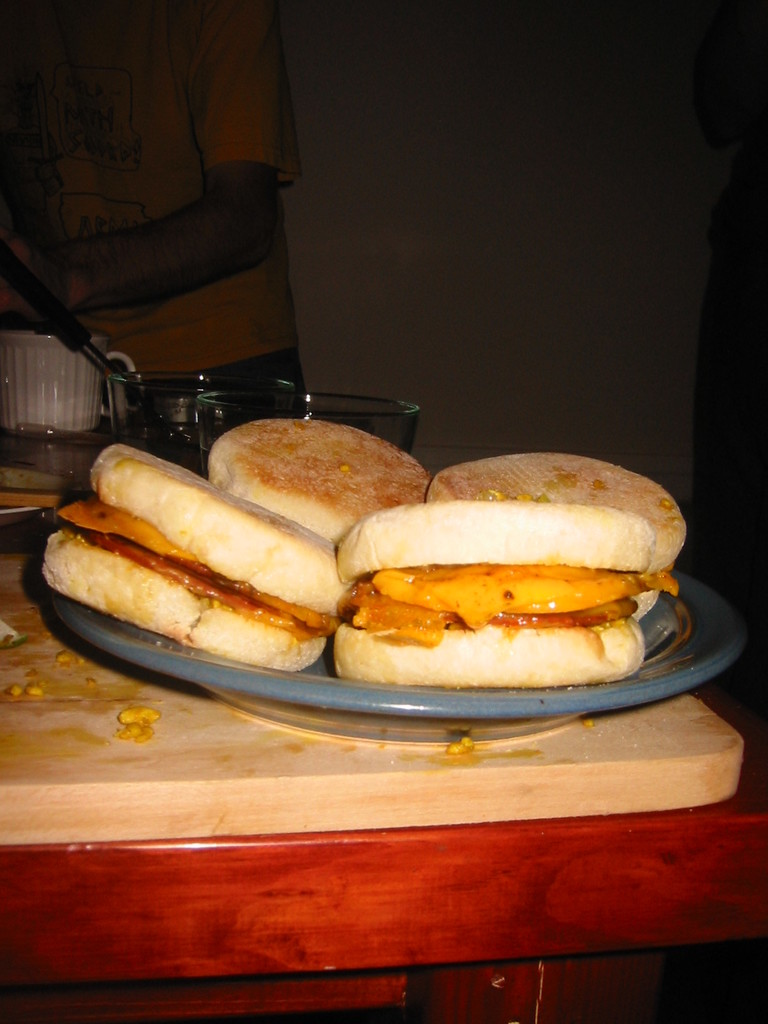Hamburger: (38, 444, 344, 670), (328, 504, 679, 689), (418, 460, 686, 609), (202, 420, 425, 551)
